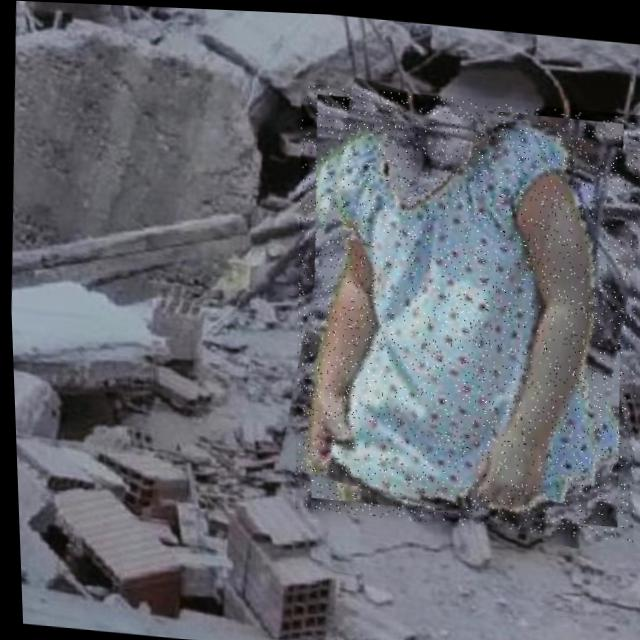Person in Rubble: (279, 80, 640, 537)
